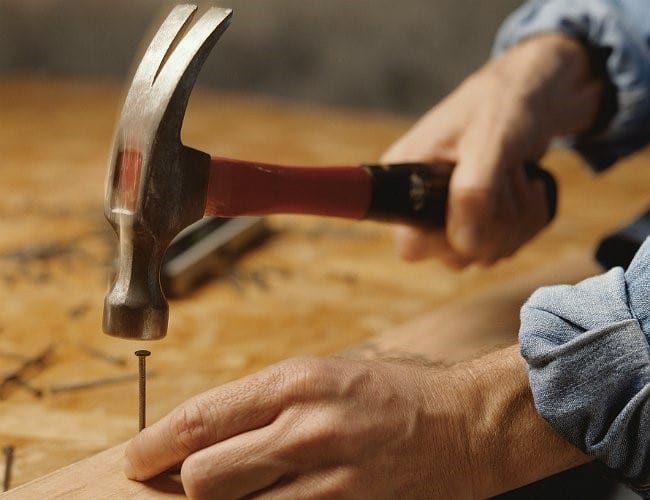hammer: (71, 3, 515, 342)
